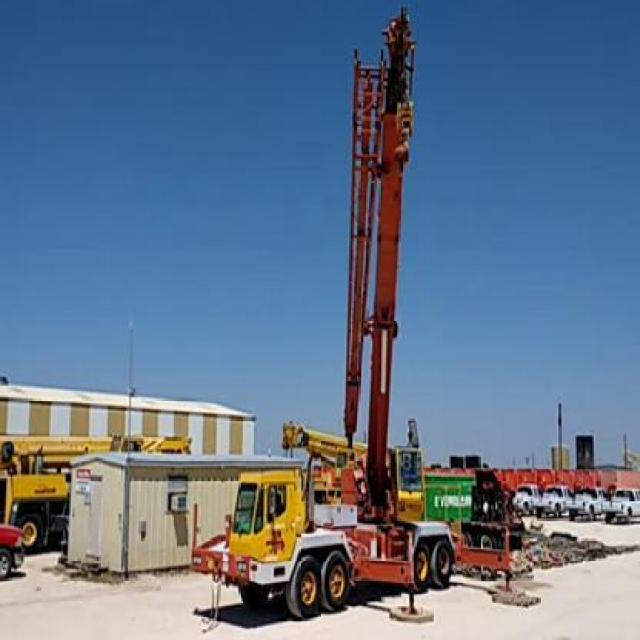Mobile Crane: (196, 11, 524, 626)
